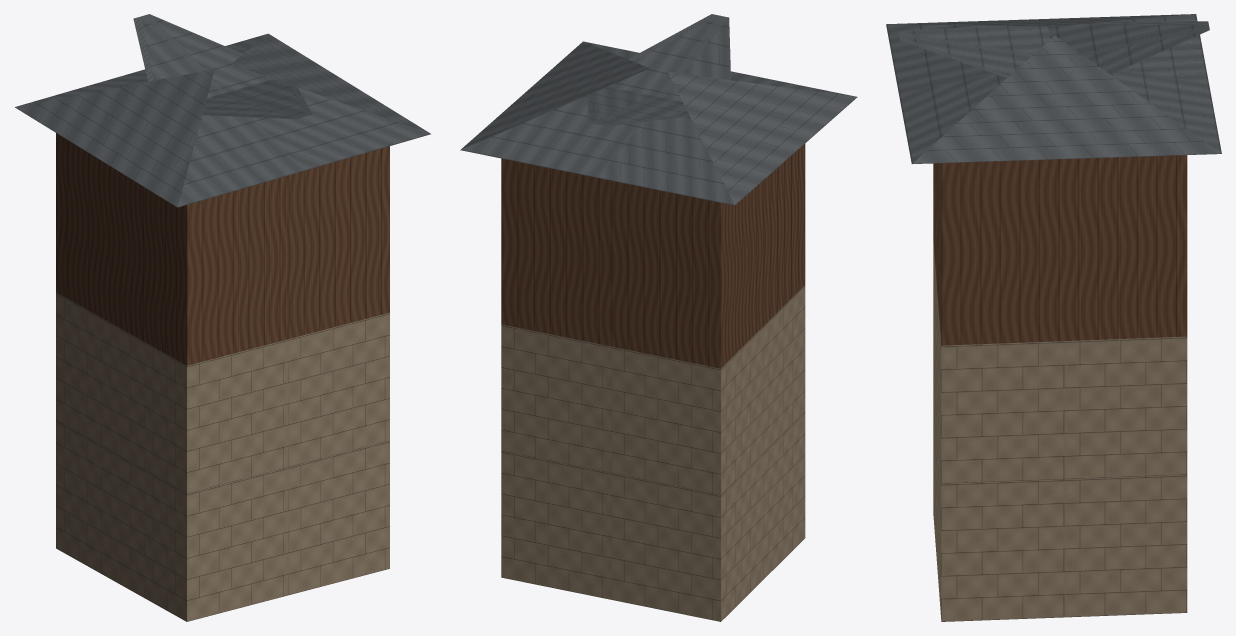
The model's file is bld_c1_11_488.gltf.
3 renders of one model, left to right at view 1: azimuth 30°, elevation 25°; view 2: azimuth 150°, elevation 25°; view 3: azimuth 270°, elevation 25°, orthographic. The views are drawn at different scales.
Visible parts, largest first — view 1: bld_c1_11_488; view 2: bld_c1_11_488; view 3: bld_c1_11_488.
Boxes of the visible parts, x1,y1,x2,y2 form: bld_c1_11_488: (15,14,430,621); bld_c1_11_488: (460,14,857,621); bld_c1_11_488: (886,14,1221,621).
Bounding box in the file's own units: 5.52 × 9.1 × 5.22.
Materials: 3 (3 with a texture image).
